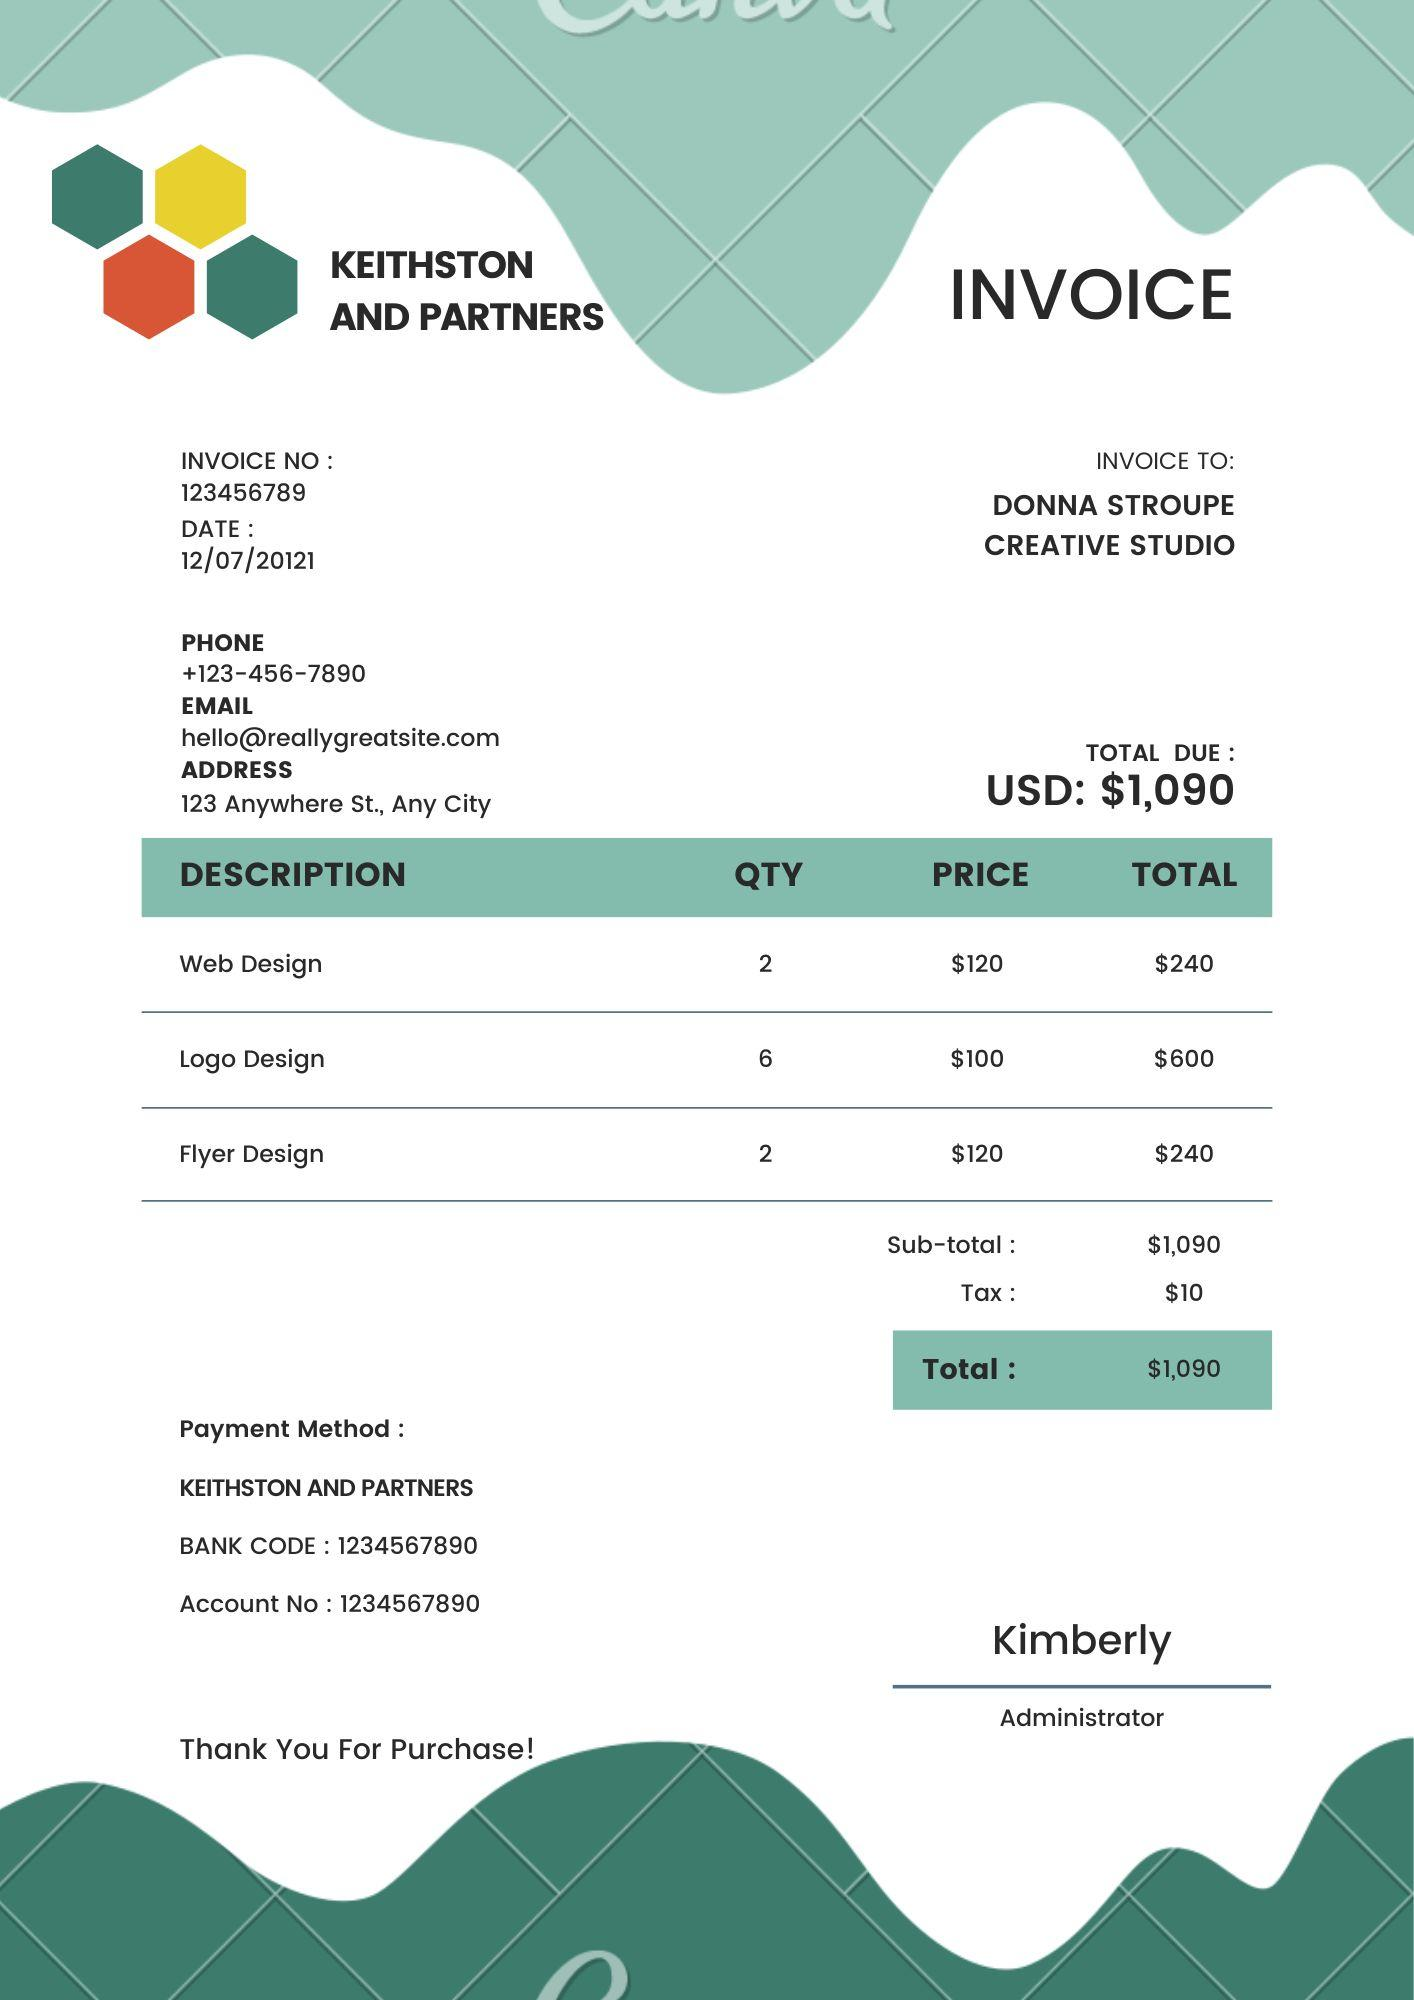ROI: (135, 828, 1272, 1212)
